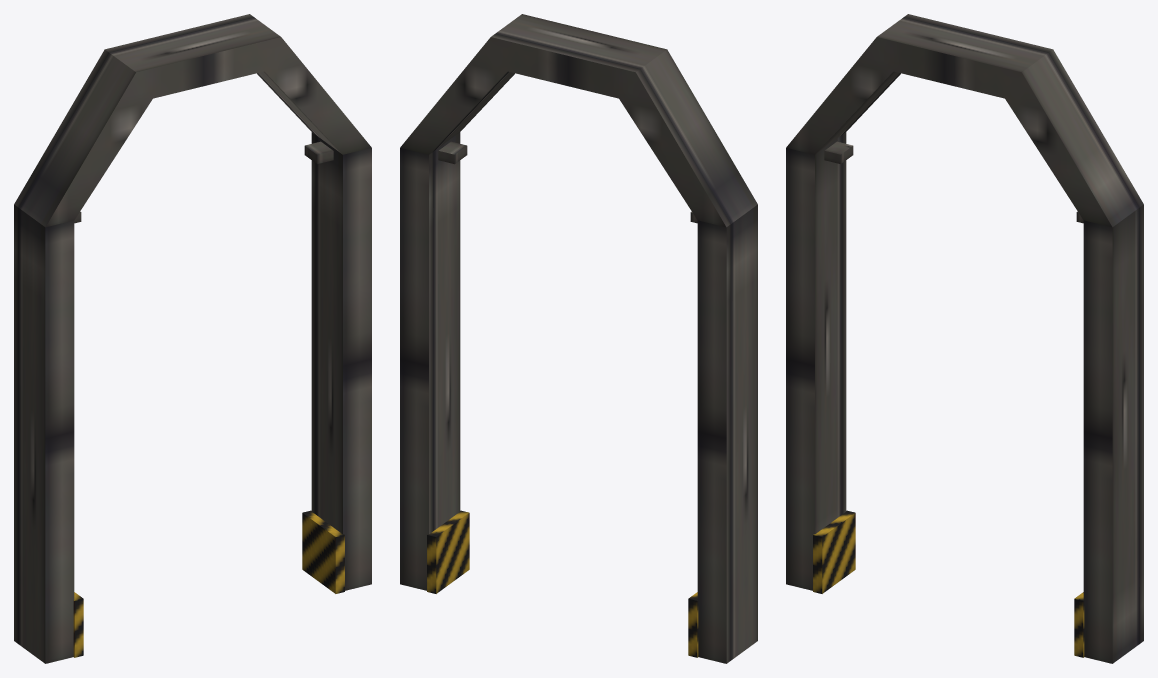
File: corridor_rib.fbx
3 renders of one model, left to right at view 1: azimuth 30°, elevation 25°; view 2: azimuth 150°, elevation 25°; view 3: azimuth 330°, elevation 25°, orthographic.
Parts seen in each view (by area): view 1: corridor_rib_left, corridor_rib_right, corridor_rib; view 2: corridor_rib_left, corridor_rib_right, corridor_rib; view 3: corridor_rib_right, corridor_rib_left, corridor_rib.
Part boxes in pixels (x1,y1,x2,y2): corridor_rib_left: (14,204,83,663); corridor_rib_right: (302,132,371,593); corridor_rib: (14,14,371,227); corridor_rib_left: (688,204,757,663); corridor_rib_right: (400,132,469,593); corridor_rib: (400,14,757,227); corridor_rib_right: (1074,204,1143,663); corridor_rib_left: (786,132,855,593); corridor_rib: (786,14,1143,227).
Size of the model in its own units: 1.8 by 3 by 0.32.
